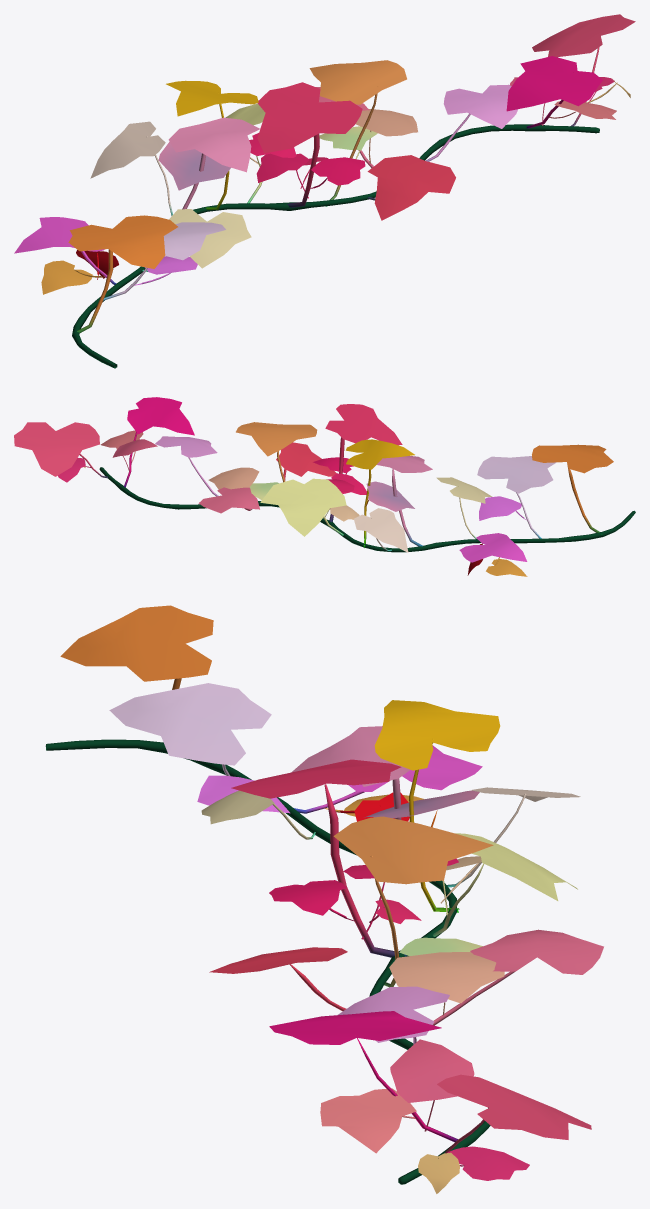
Rendered from English_Ivy_xfcnebhqx_High_xfcnebhqx_VarG_LOD1.fbx.
3 views of the same model, one above another, from view 1: azimuth 30°, elevation 25°; view 2: azimuth 150°, elevation 25°; view 3: azimuth 270°, elevation 25° (orthographic). The views are drawn at different scales.
Parts seen in each view (by area): view 1: _yv9v_VarG_LOD1; view 2: _yv9v_VarG_LOD1; view 3: _yv9v_VarG_LOD1.
Boxes of the visible parts, x1,y1,x2,y2 form: _yv9v_VarG_LOD1: (14, 14, 635, 368); _yv9v_VarG_LOD1: (14, 397, 635, 576); _yv9v_VarG_LOD1: (45, 605, 603, 1193).
Bounding box in the file's own units: 63.18 × 13.41 × 30.47.
